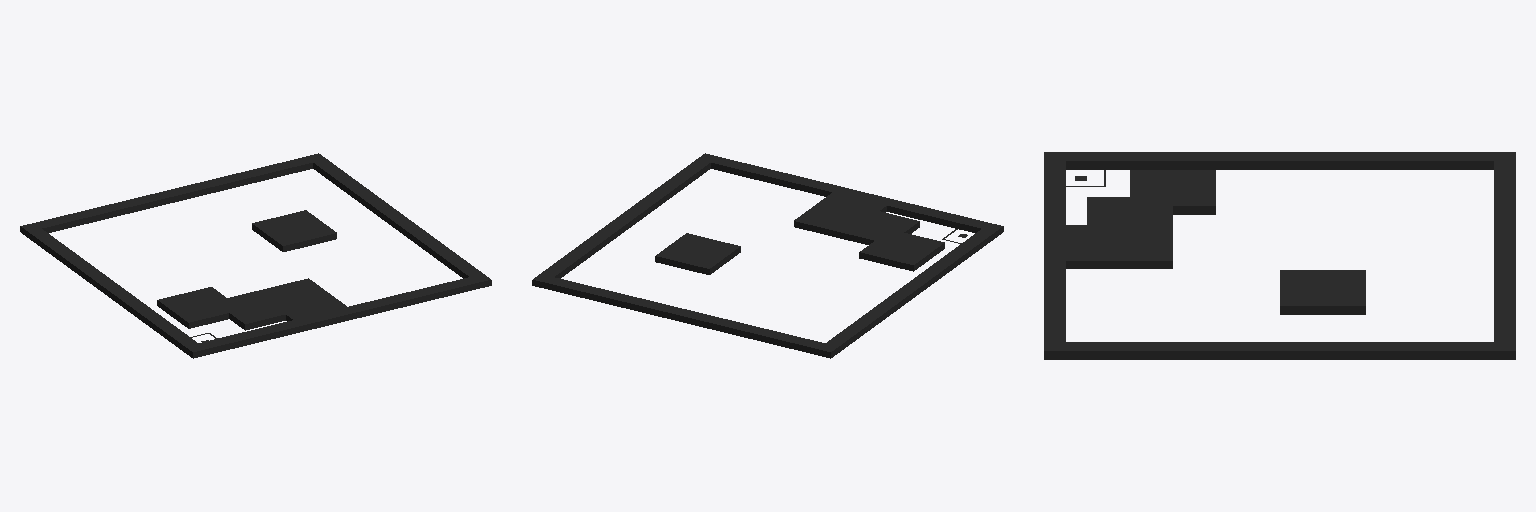
URDF robot description (Room17):
<robot name="Room17">
    <link name="_name">
        <visual> 
            <origin rpy="0.0 0.0 0.0" xyz="-0.4669311082419925 -0.4153397015674829 -0.009999999999999997" />
                <geometry>
                    <mesh filename="Room17/Room17.obj" scale="1 1 0.1" />
                </geometry>

            <material name="black">
                <color rgba="0.2 0.2 0.2 0.95" />
            </material>
        </visual>

       <collision concave="yes" name="collision_0">
            <origin rpy="0.0 0.0 0.0" xyz="-0.4669311082419925 -0.4153397015674829 -0.009999999999999997" />
            <geometry>
                <mesh filename="Room17/Room17_vhacd.obj" scale="1 1 0.1" />
            </geometry>
        </collision>

        <inertial> 
            <mass value="0" />
            <inertia ixx="0" ixy="0" ixz="0" iyy="0" iyz="0" izz="0" />
        </inertial> 
    </link>
</robot>

--- Render facts (derived) ---
3 views of the same robot in one strip: view 1: azimuth 30°, elevation 25°; view 2: azimuth 150°, elevation 25°; view 3: azimuth 270°, elevation 25° (orthographic).
Model Room17 with 1 links and 0 joints (none), rooted at _name, posed all joints at 0.
Visible links, largest first — view 1: _name; view 2: _name; view 3: _name.
Boxes of the visible links, bbox=[...] form: _name: bbox=[20, 153, 491, 358]; _name: bbox=[532, 153, 1003, 358]; _name: bbox=[1044, 152, 1515, 359].
Bounding box of the posed robot: 1 × 1 × 0.02 m (x, y, z).
Meshes: 1 distinct files referenced, 1 mesh visuals loaded (1 OBJ).